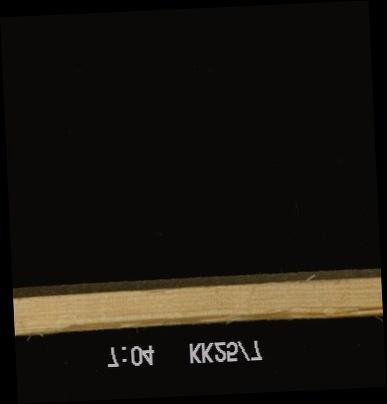split: (336, 303, 381, 317)
wave: (59, 307, 325, 325)
